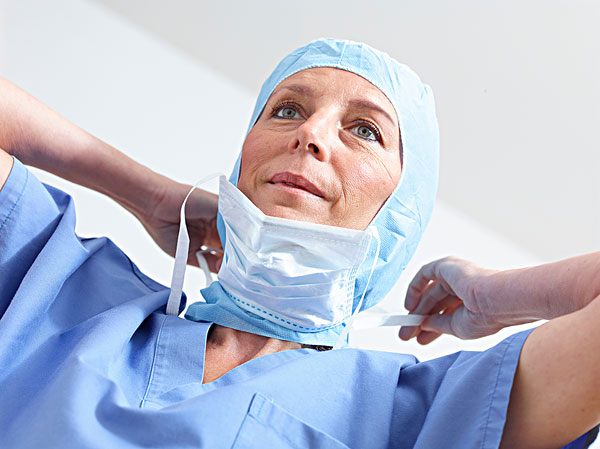face_mask: (241, 62, 394, 272)
